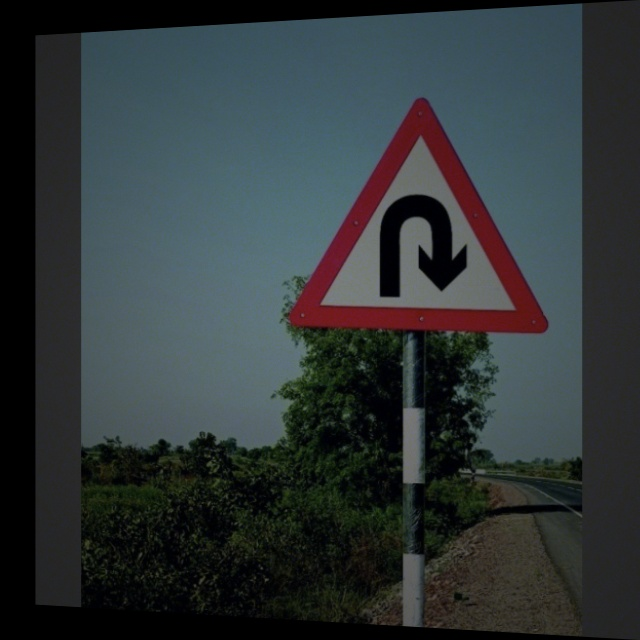Right_Hair_Pin_Bend: (290, 93, 550, 333)
